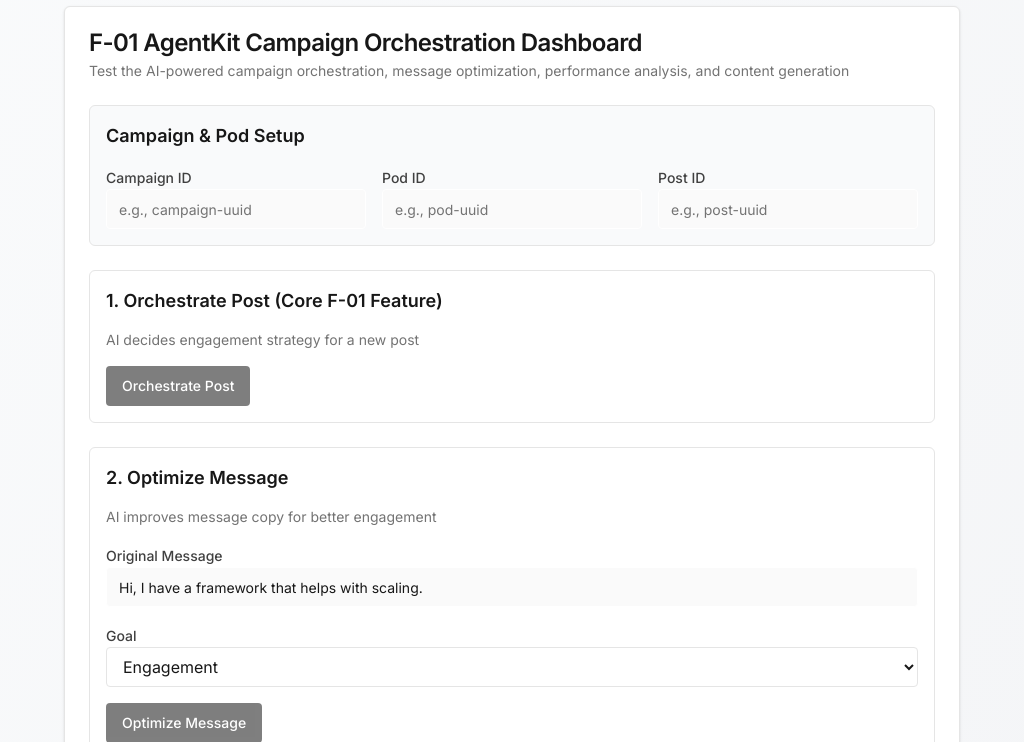
Test: F-01 Orchestration Dashboard › API Calls - orchestrate_post › should display error result for orchestrate_post
Fill fields and click
In the field with placeholder "e.g., campaign-uuid": (236, 209) [106,189,366,229], type "invalid-campaign"
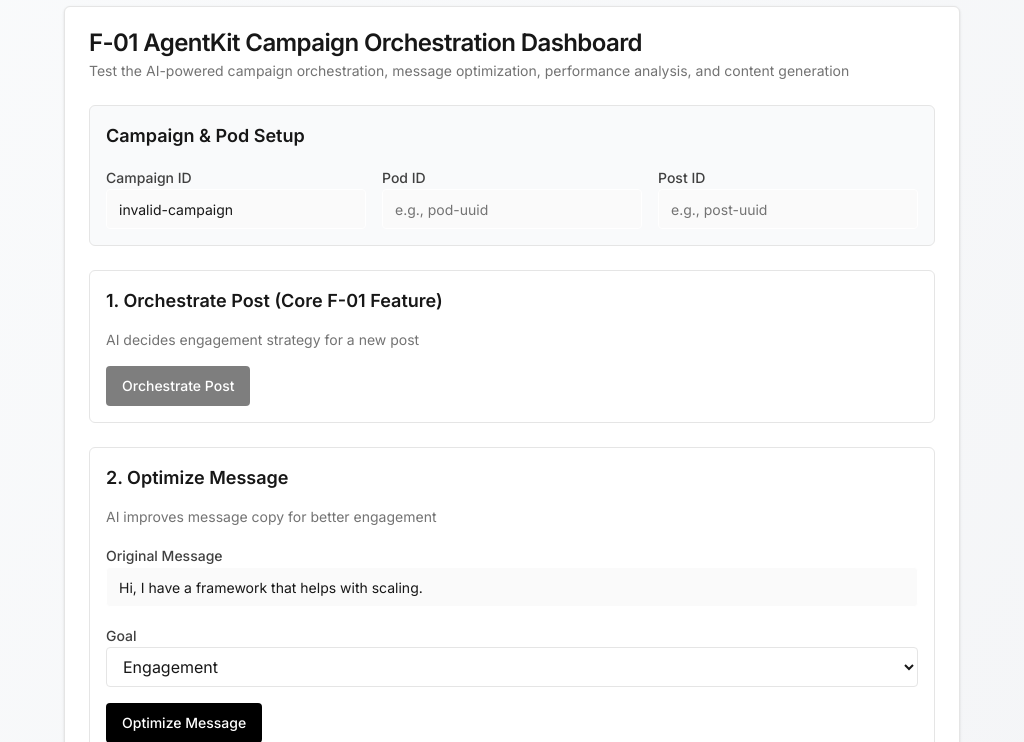
In the field with placeholder "e.g., pod-uuid": (512, 209) [382,189,642,229], type "pod-456"
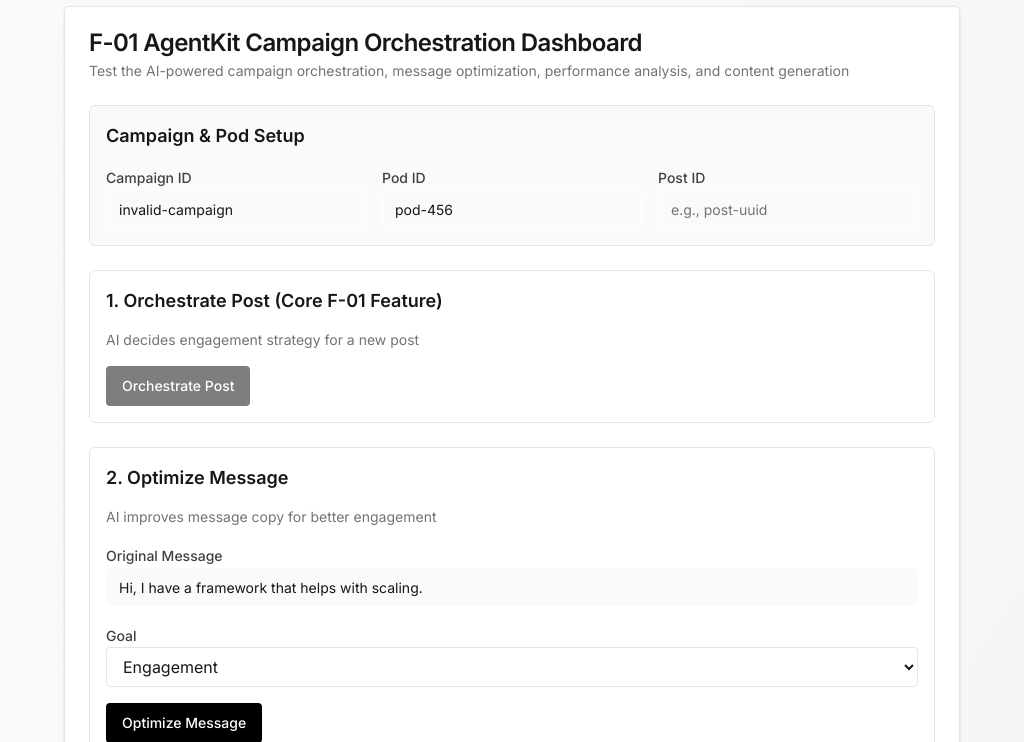
In the field with placeholder "e.g., post-uuid": (788, 209) [658,189,918,229], type "post-789"
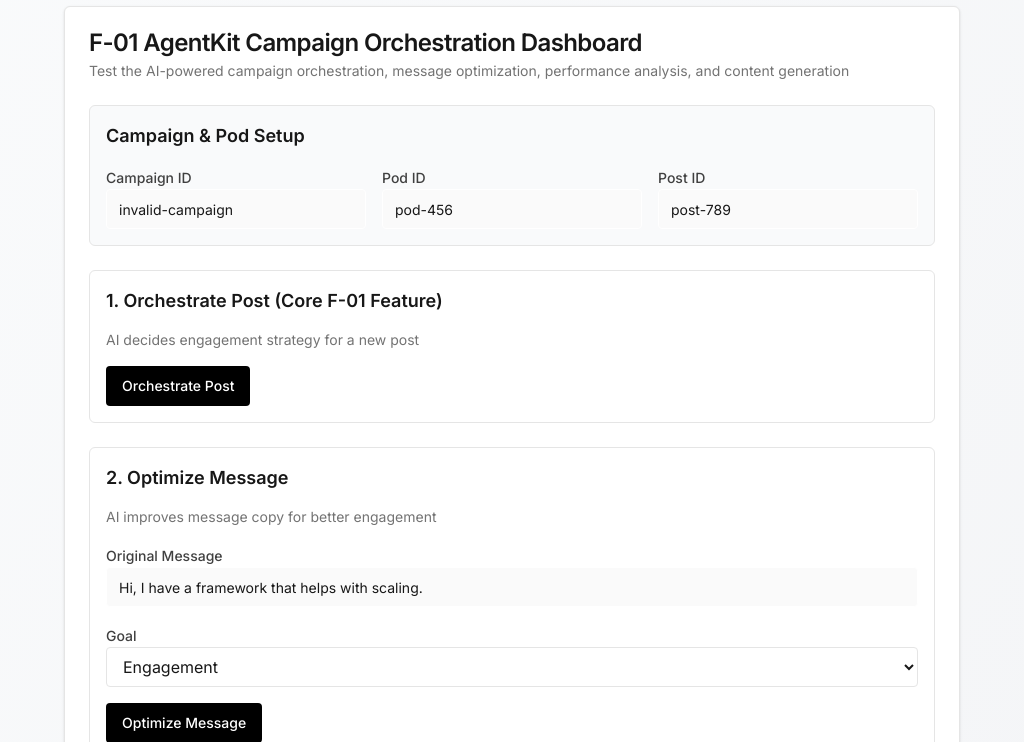
Click the button "Orchestrate Post": (178, 386) [106,366,250,406]
(page scrolled)
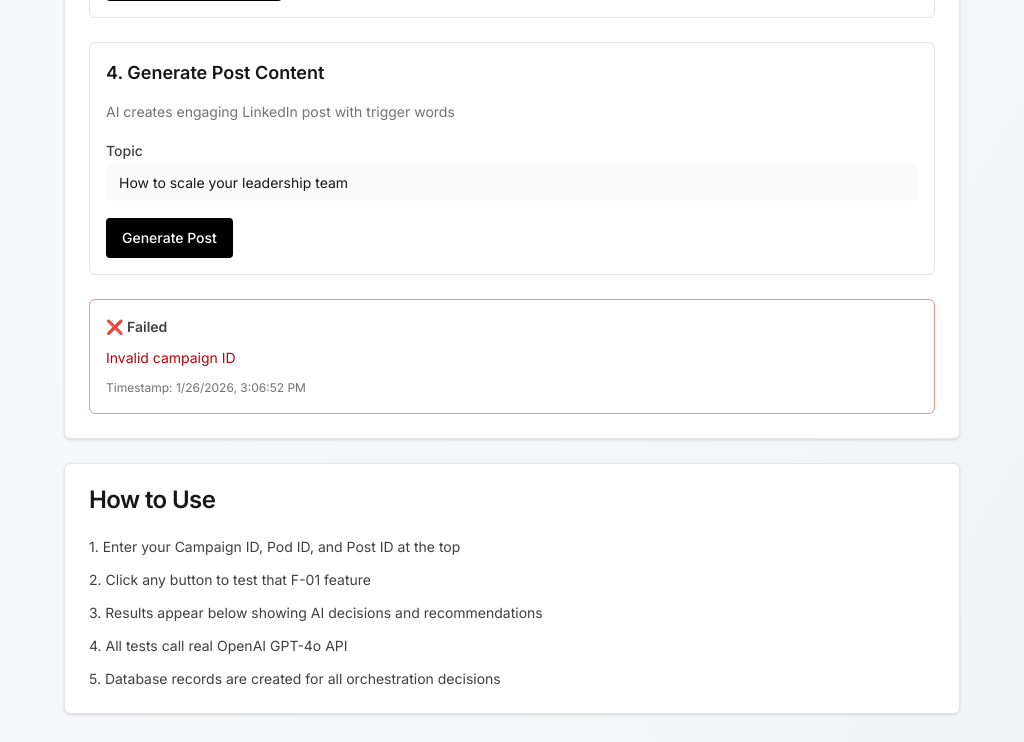
Check: the text "❌ Failed" is shown, box [106,318,167,335]
Check: the text "Invalid campaign ID" is shown, box [106,349,236,366]
